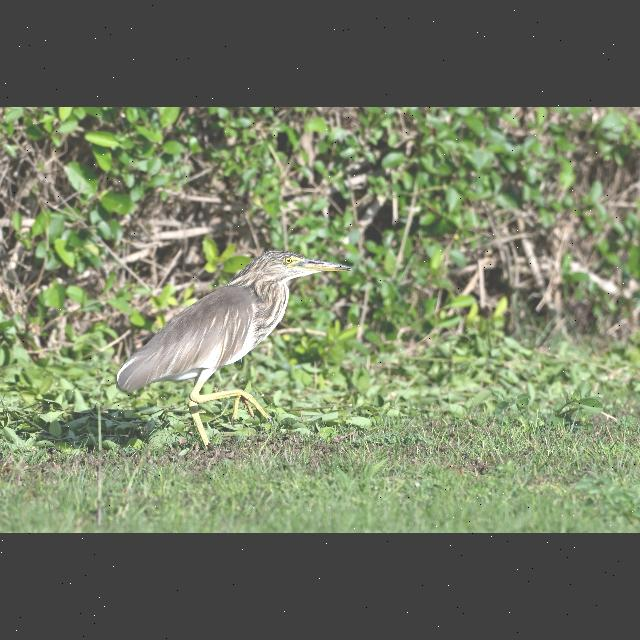heron: (118, 248, 354, 440)
